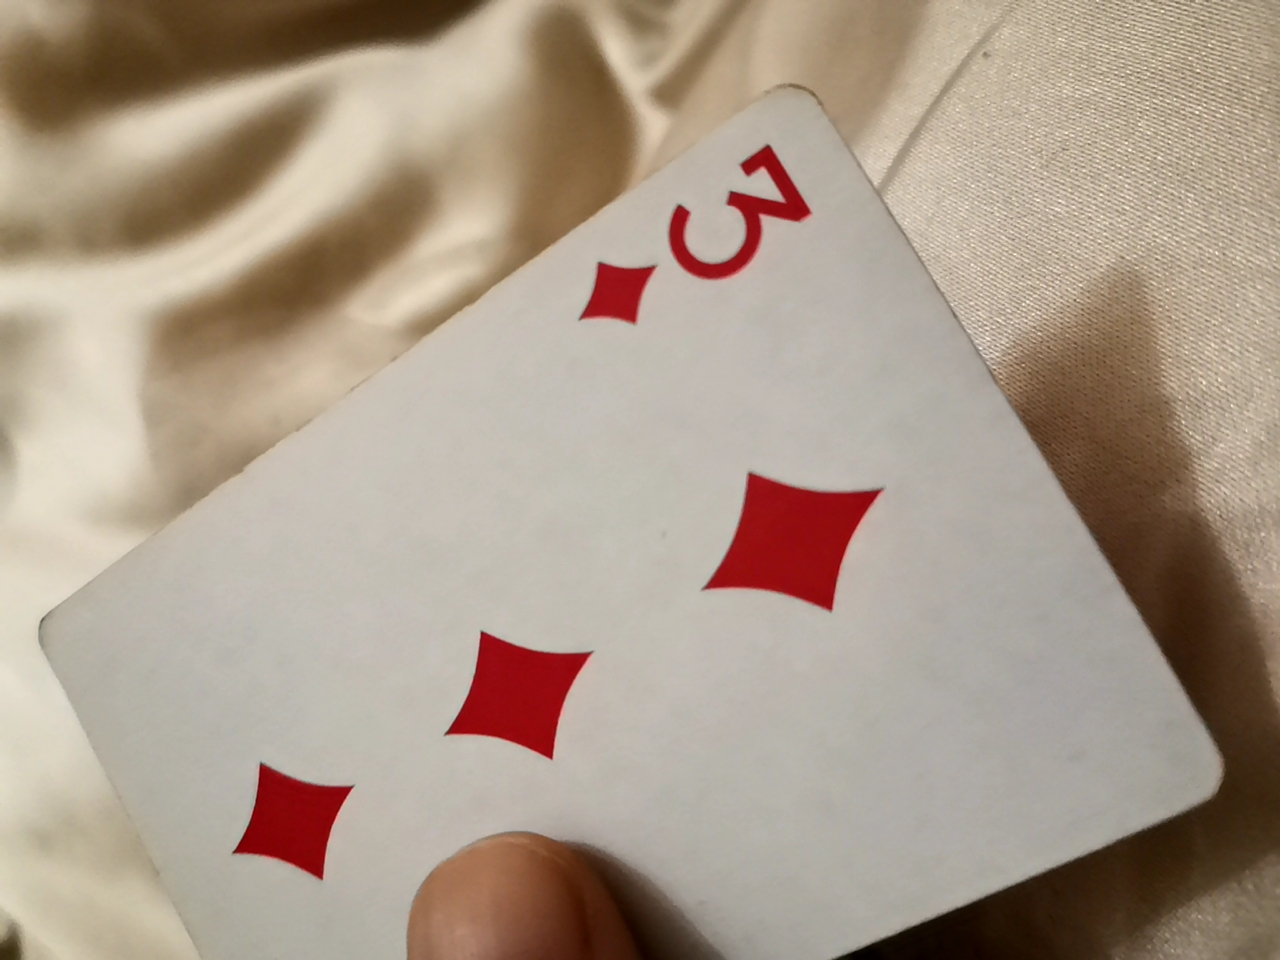fk 3: (28, 101, 1215, 954)
